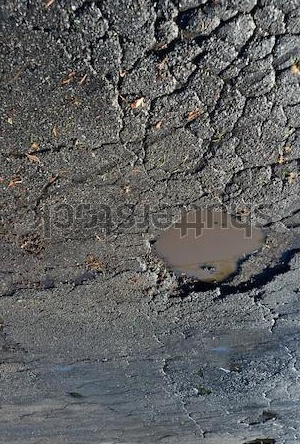pothole: (136, 205, 296, 307), (235, 410, 279, 427), (241, 436, 281, 443)
